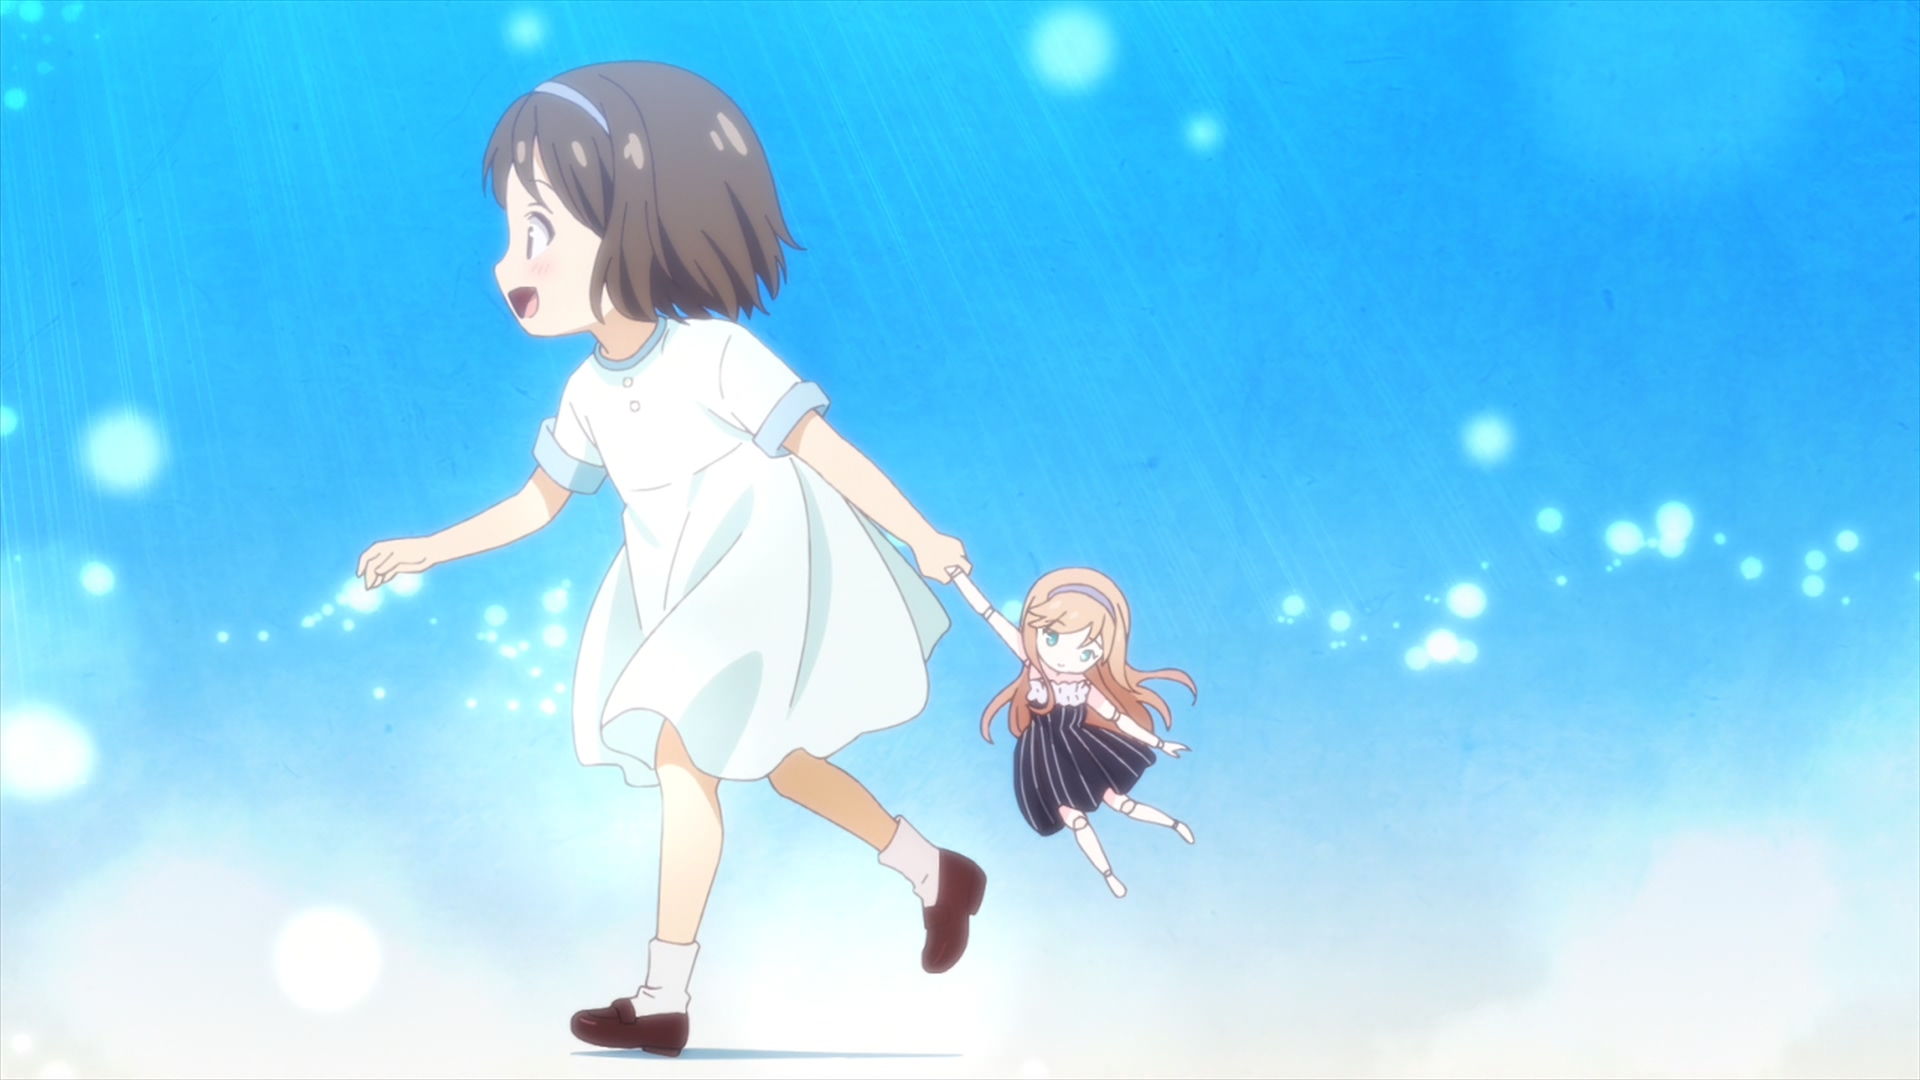其他: (356, 61, 986, 1058), (949, 564, 1200, 901)
